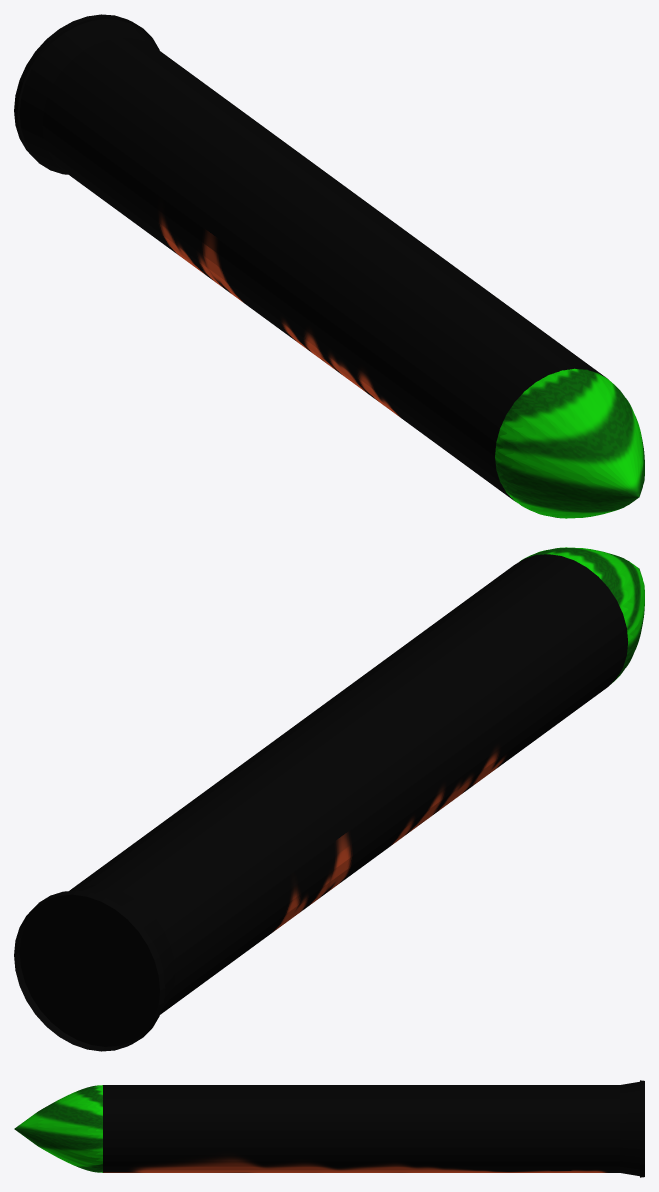
File: Raketa.fbx
3 renders of one model, top to bottom at view 1: azimuth 30°, elevation 25°; view 2: azimuth 150°, elevation 25°; view 3: azimuth 270°, elevation 25°, orthographic. The views are drawn at different scales.
Parts seen in each view (by area): view 1: Korpus, Golovka; view 2: Korpus, Golovka; view 3: Korpus, Golovka.
Part boxes in pixels (x1,y1,x2,y2): Korpus: (14, 14, 607, 501); Golovka: (495, 368, 644, 518); Korpus: (14, 554, 627, 1051); Golovka: (520, 547, 644, 683); Korpus: (103, 1080, 644, 1177); Golovka: (14, 1085, 102, 1172).
Bounding box in the file's own units: 222 × 222 × 1435.
